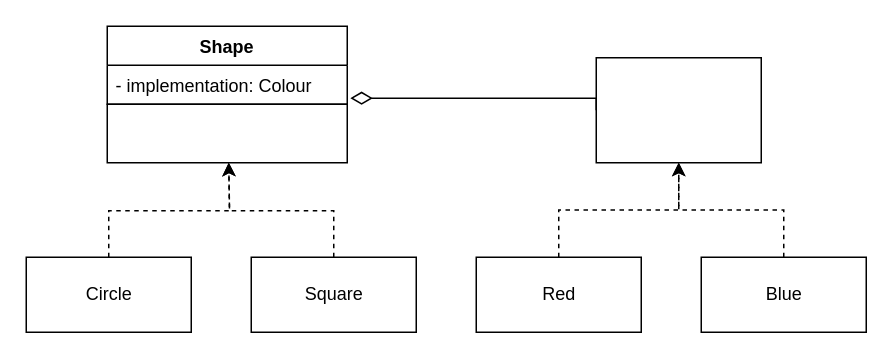
This 893x359 diagram has some shape labels left out. Each missing label, with the centre of its shape:
+ name() + show_colour(): the point at 226,133
<<Interface>> Colour + paint(): the point at 678,109
